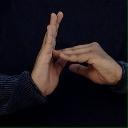hand: (30, 10, 67, 96), (52, 41, 122, 85)
